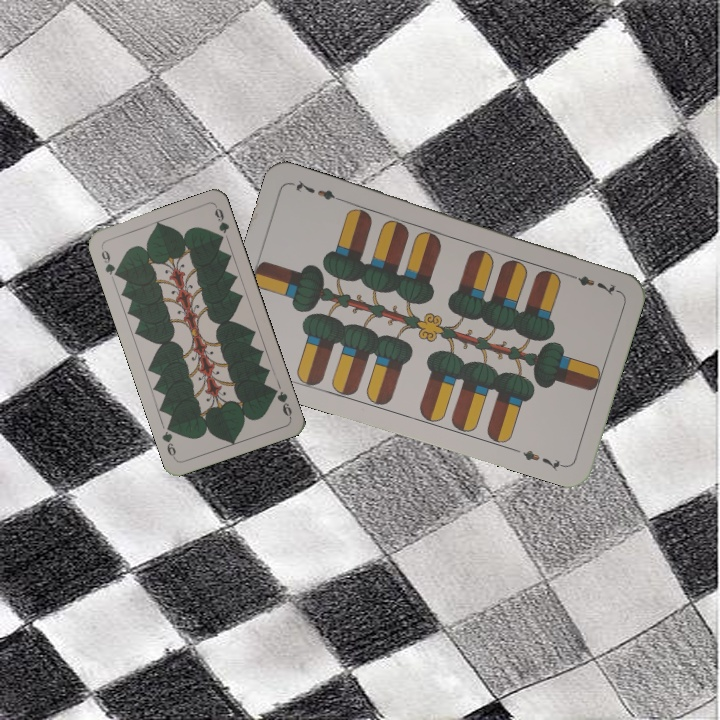E7: (563, 269, 621, 298)
G9: (268, 384, 295, 421), (97, 243, 122, 280)
